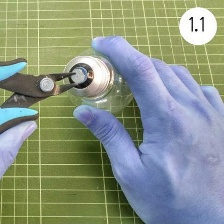light_bulb: (61, 40, 148, 120)
